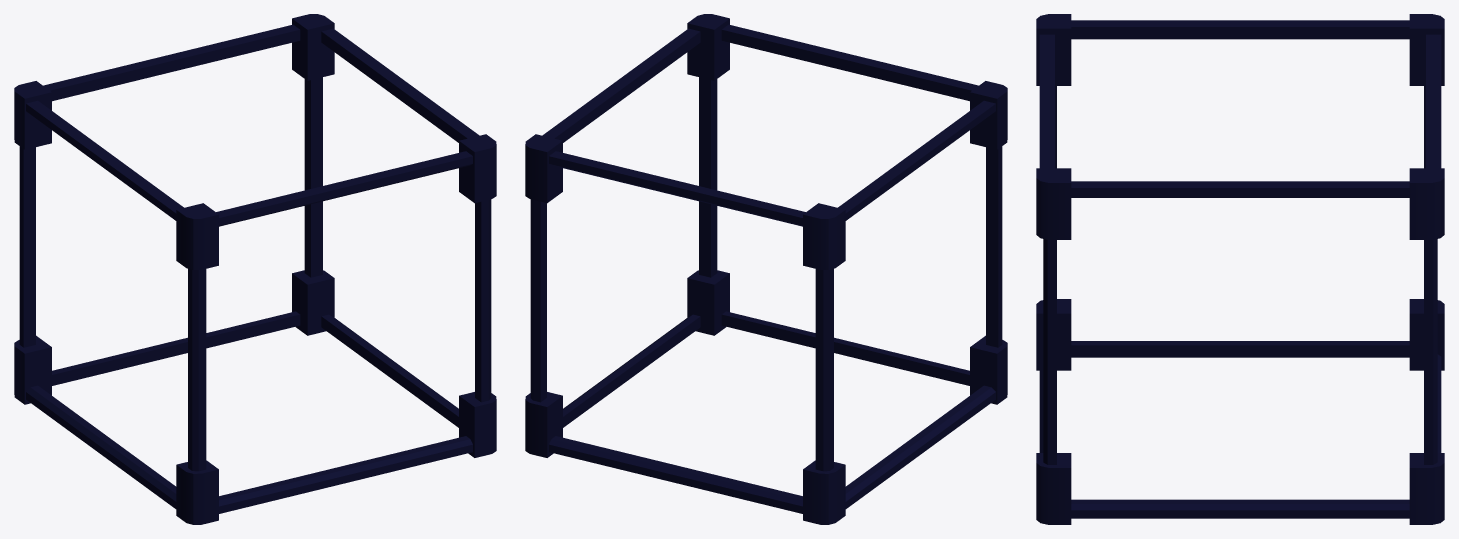
The model's file is SM_metal_frames.fbx.
3 renders of one model, left to right at view 1: azimuth 30°, elevation 25°; view 2: azimuth 150°, elevation 25°; view 3: azimuth 270°, elevation 25°, orthographic. The views are drawn at different scales.
Visible parts, largest first — view 1: metal_frames; view 2: metal_frames; view 3: metal_frames.
Boxes of the visible parts, x1,y1,x2,y2 form: metal_frames: (14, 14, 496, 524); metal_frames: (525, 14, 1007, 524); metal_frames: (1036, 14, 1444, 524).
Size of the model in its own units: 114 by 108 by 117.
